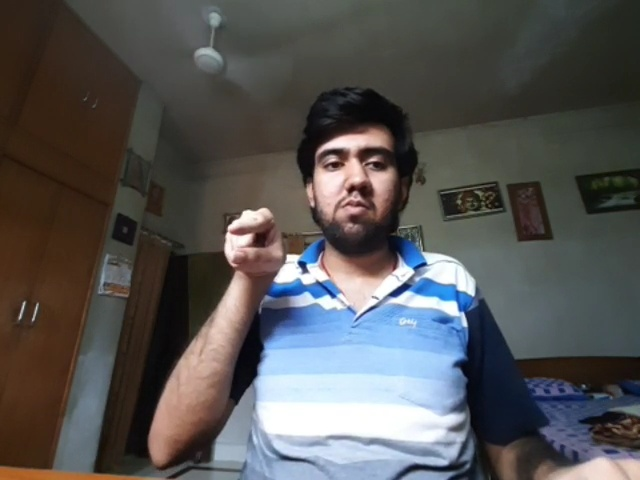You: (222, 207, 284, 275)
